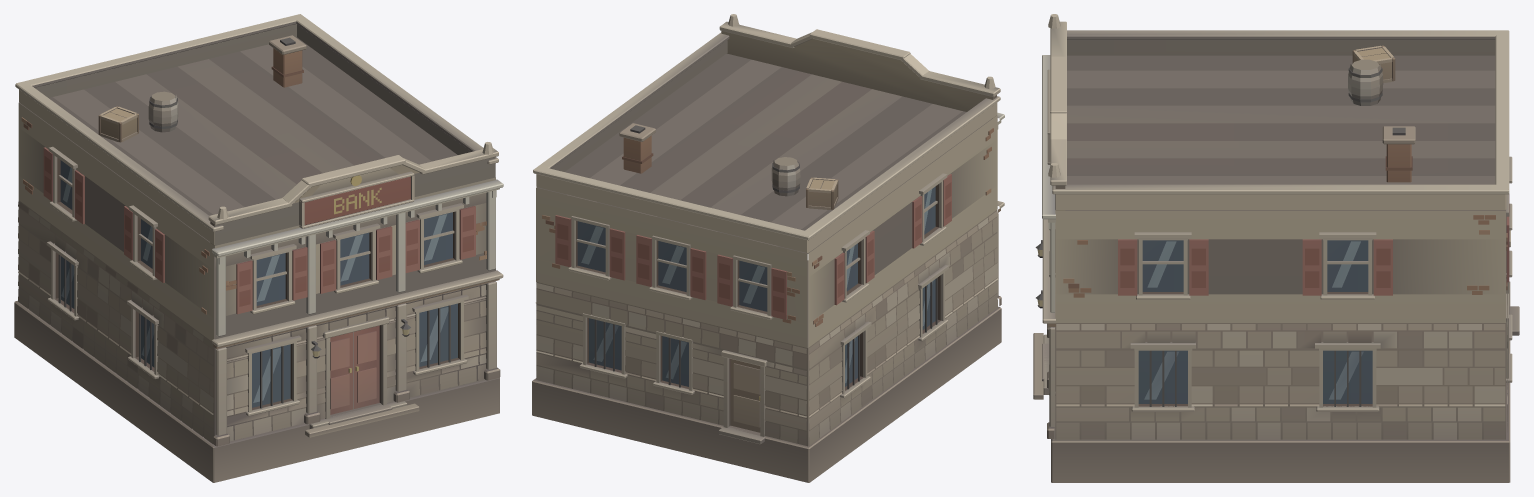
Rendered from house_0.glb.
The picture shows the model from 3 angles, left to right: view 1: azimuth 30°, elevation 25°; view 2: azimuth 150°, elevation 25°; view 3: azimuth 270°, elevation 25°; orthographic projection. The views are drawn at different scales.
Bounding box in the file's own units: 9.2 × 8.38 × 11.59.
